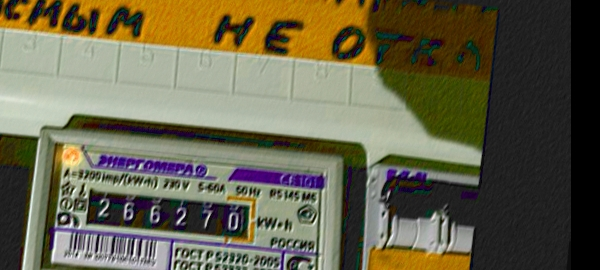0: (227, 210, 242, 231)
2: (96, 197, 114, 218), (174, 205, 190, 227)
6: (122, 200, 137, 222), (149, 204, 164, 225)
7: (200, 208, 214, 228)
screen: (77, 177, 266, 250)
